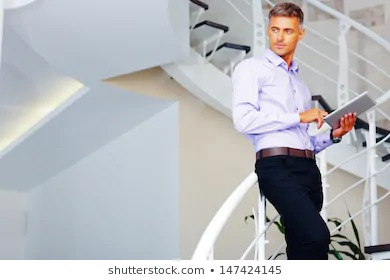F_dress pants: (248, 151, 334, 260)
F_shirt: (226, 52, 342, 151), (256, 145, 315, 157)
